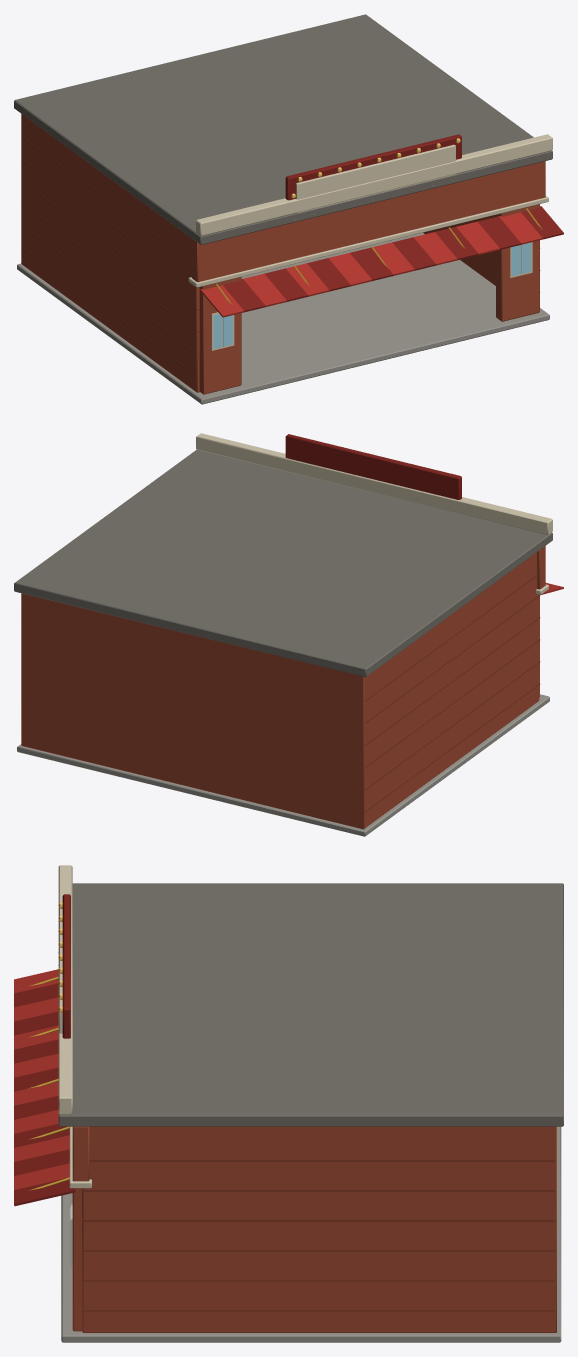
Rendered from 192_casino_moyen.fbx.
3 views of the same model, one above another, from view 1: azimuth 30°, elevation 25°; view 2: azimuth 150°, elevation 25°; view 3: azimuth 270°, elevation 25° (orthographic). The views are drawn at different scales.
Parts seen in each view (by area): view 1: Murs, Toit, Enseigne; view 2: Murs, Toit, Enseigne; view 3: Toit, Murs, Enseigne.
Part boxes in pixels (bbox=[...]): Murs: bbox=[17, 114, 563, 404]; Toit: bbox=[14, 14, 552, 244]; Enseigne: bbox=[285, 134, 461, 219]; Murs: bbox=[17, 546, 563, 836]; Toit: bbox=[14, 433, 552, 677]; Enseigne: bbox=[285, 434, 461, 499]; Toit: bbox=[58, 865, 563, 1126]; Murs: bbox=[14, 969, 561, 1342]; Enseigne: bbox=[58, 894, 70, 1056].
Size of the model in its own units: 10.08 by 5.6 by 10.08.
1 material, 1 textured.
